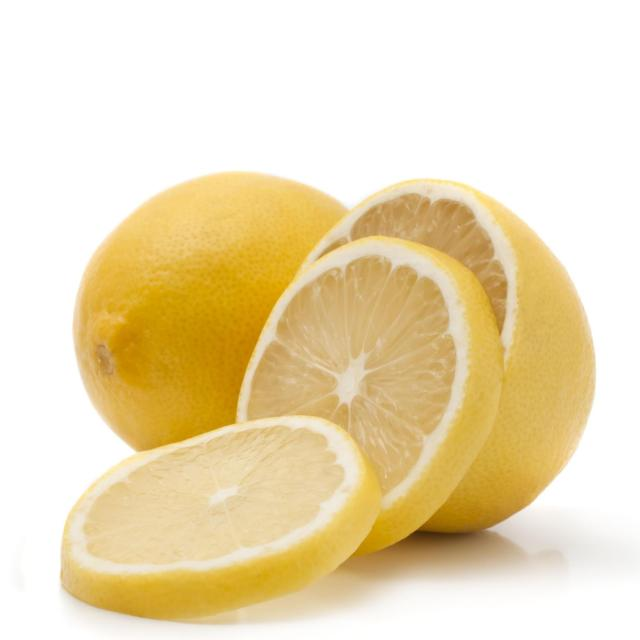lemon: (47, 155, 602, 626)
